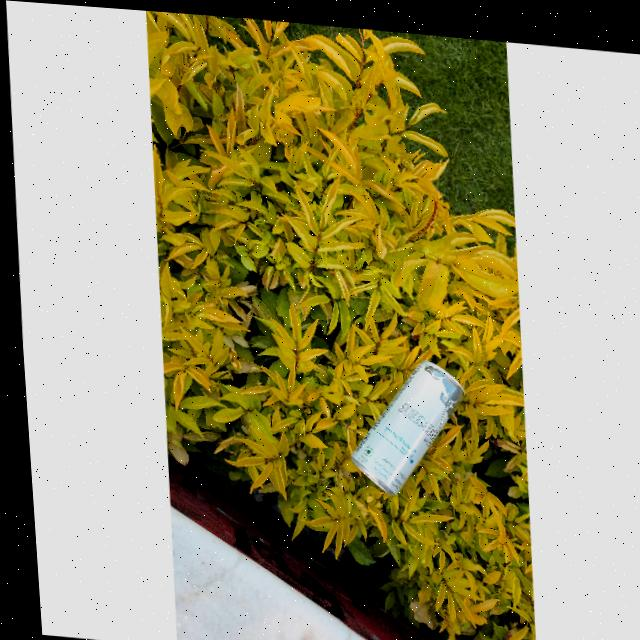Redbull Summer Edition: (336, 348, 465, 495)
